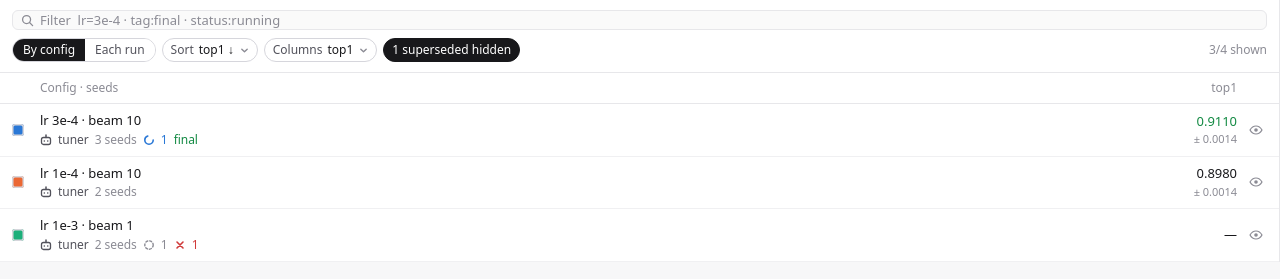
Test: RunsSidebar › Columns chip picks the score key each row shows
What coordinates should you click on to do the following:
click the button "Columns top1"
I would click on:
 (320, 50)
Its box is [264, 38, 377, 62].
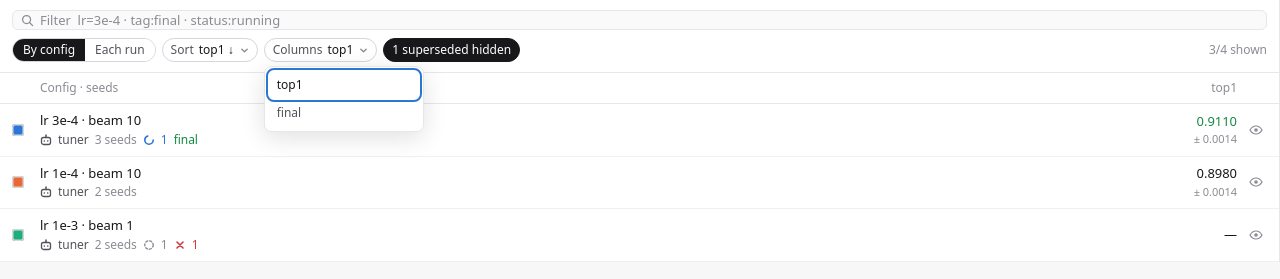
What coordinates should you click on to do the following:
click the menu item "final"
I would click on:
 (344, 113)
Its box is [269, 99, 419, 127].
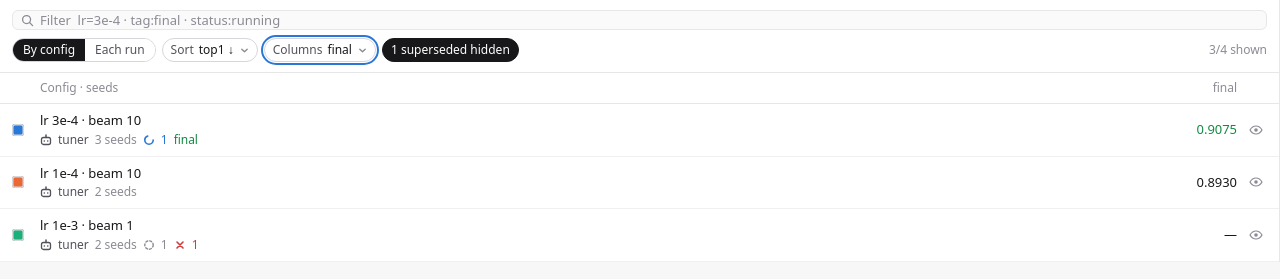
Now the text "0.9075" is shown, box [1197, 120, 1237, 138]
Now the text "± 0.0014" is gone
Now the button "Columns final" is shown, box [264, 38, 376, 62]
